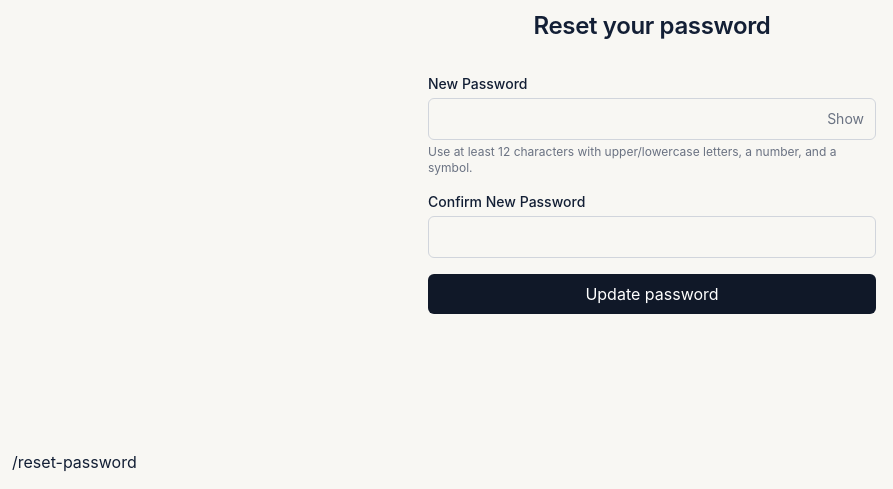
password reset email flow › updates the password through a valid recovery session
The width and height of the screenshot is (893, 489).
Type "Str0ng!Passw0rd" into the password field labelled "New Password" at (652, 119), box [428, 98, 876, 140]
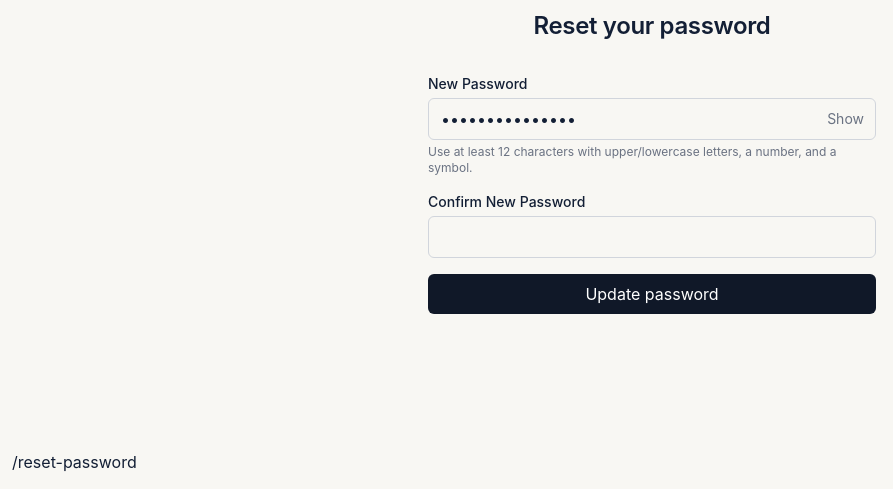
Type "Str0ng!Passw0rd" into the password field labelled "Confirm New Password" at (652, 237), box [428, 216, 876, 258]
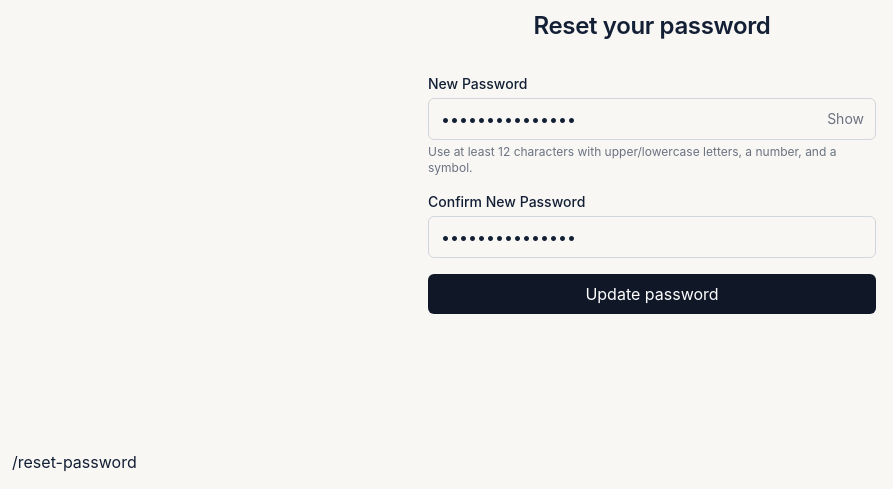
Click the button "Update password" at (652, 294), box [428, 274, 876, 314]
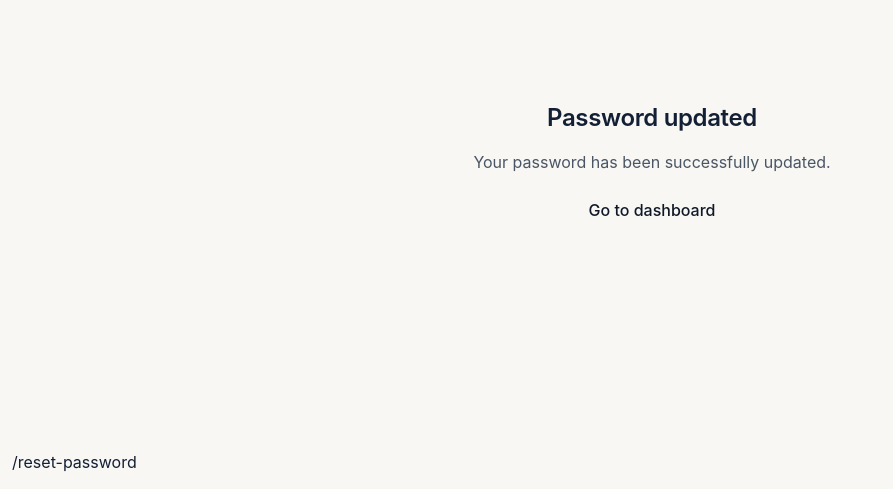
expect the heading "Password updated" is shown: met, box [547, 103, 757, 132]
